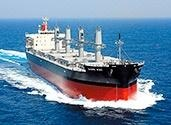Cargoship: (23, 12, 153, 103)
